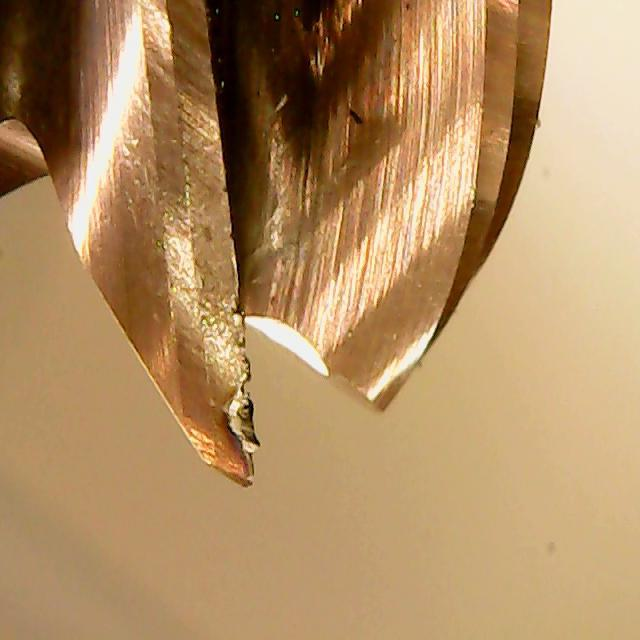Tool-wear-class-1: (164, 257, 265, 486)
